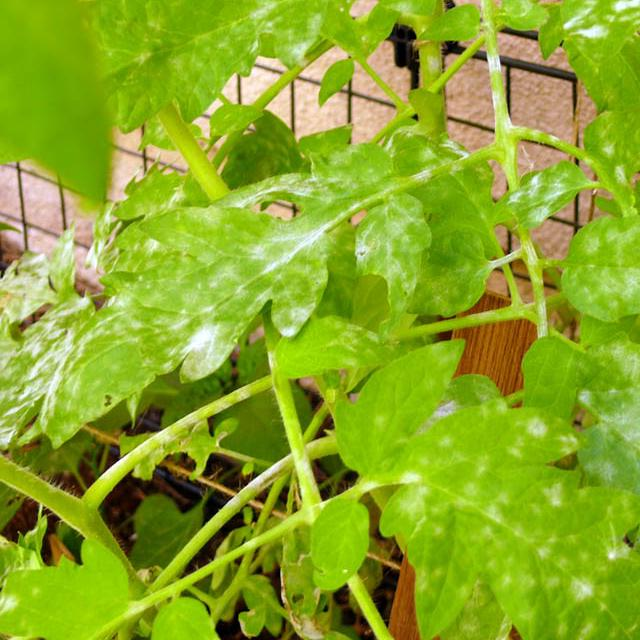Tomato mold leaf: (47, 141, 427, 452), (322, 338, 640, 640), (52, 0, 377, 116), (542, 213, 640, 318), (617, 0, 640, 441), (486, 160, 578, 231)
